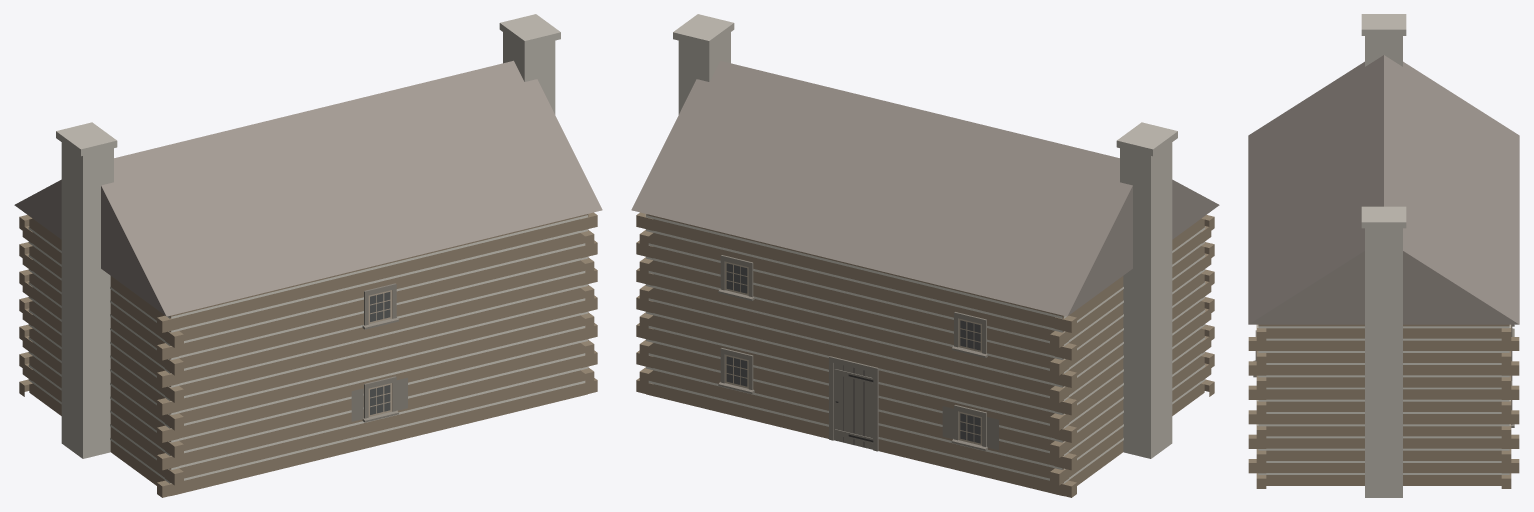
Rendered from first_fort_outer_interpreters_house__first_fort_1803.glb.
3 views of the same model, side by side, from view 1: azimuth 30°, elevation 25°; view 2: azimuth 150°, elevation 25°; view 3: azimuth 270°, elevation 25° (orthographic). The views are drawn at different scales.
Parts seen in each view (by area): view 1: first_fort_outer_interpreters_house__first_fort_1803; view 2: first_fort_outer_interpreters_house__first_fort_1803; view 3: first_fort_outer_interpreters_house__first_fort_1803.
Boxes of the visible parts, box(x1,y1,x2,y2) form: first_fort_outer_interpreters_house__first_fort_1803: box(14, 14, 602, 497); first_fort_outer_interpreters_house__first_fort_1803: box(631, 14, 1219, 497); first_fort_outer_interpreters_house__first_fort_1803: box(1248, 14, 1519, 497).
Size of the model in its own units: 12.43 by 7.72 by 6.84.
